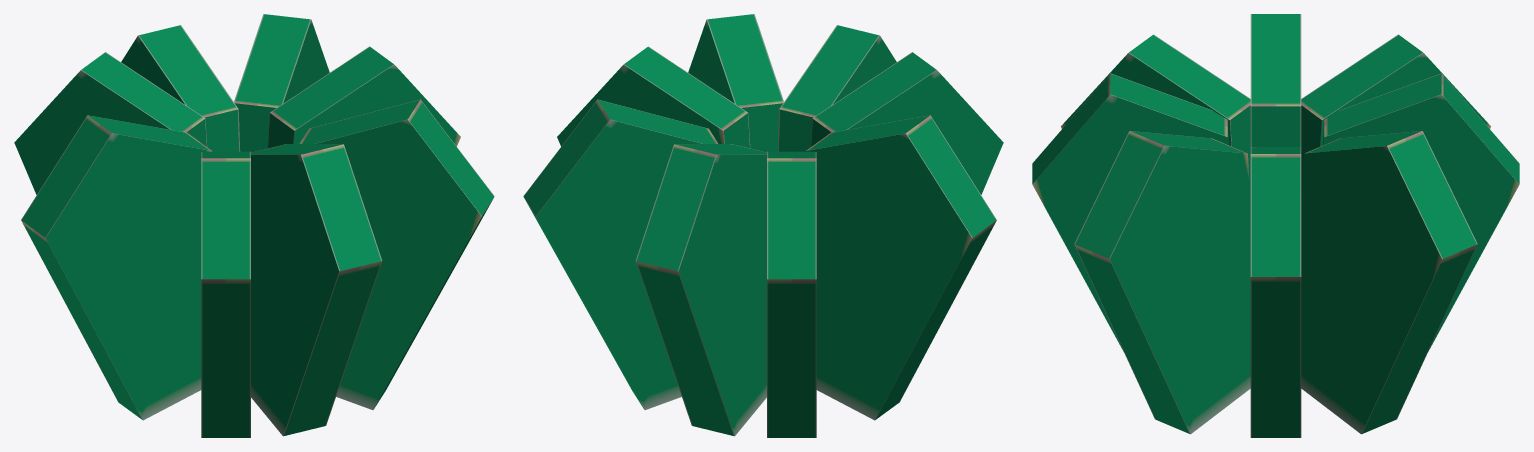
File: tall-grass.gltf
The picture shows the model from 3 angles, left to right: view 1: azimuth 30°, elevation 25°; view 2: azimuth 150°, elevation 25°; view 3: azimuth 270°, elevation 25°; orthographic projection.
Bounding box in the file's own units: 4.82 × 3.27 × 4.82.
Materials: 1 (1 with a texture image).
